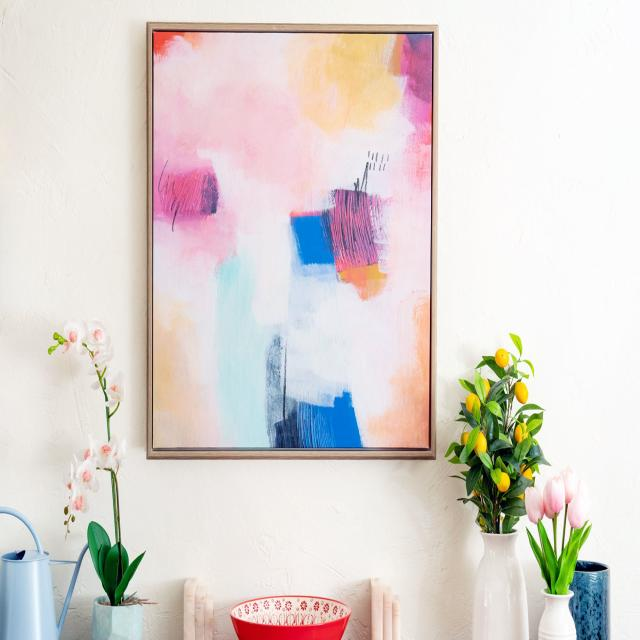painting: (147, 21, 437, 459)
